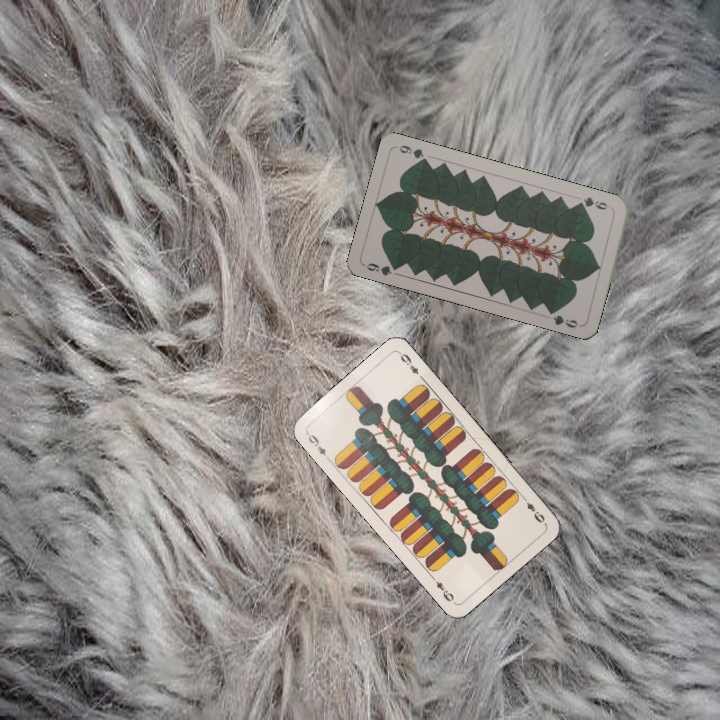E9: (518, 492, 548, 526), (303, 429, 333, 463)
G9: (574, 193, 615, 212), (361, 259, 402, 278)
